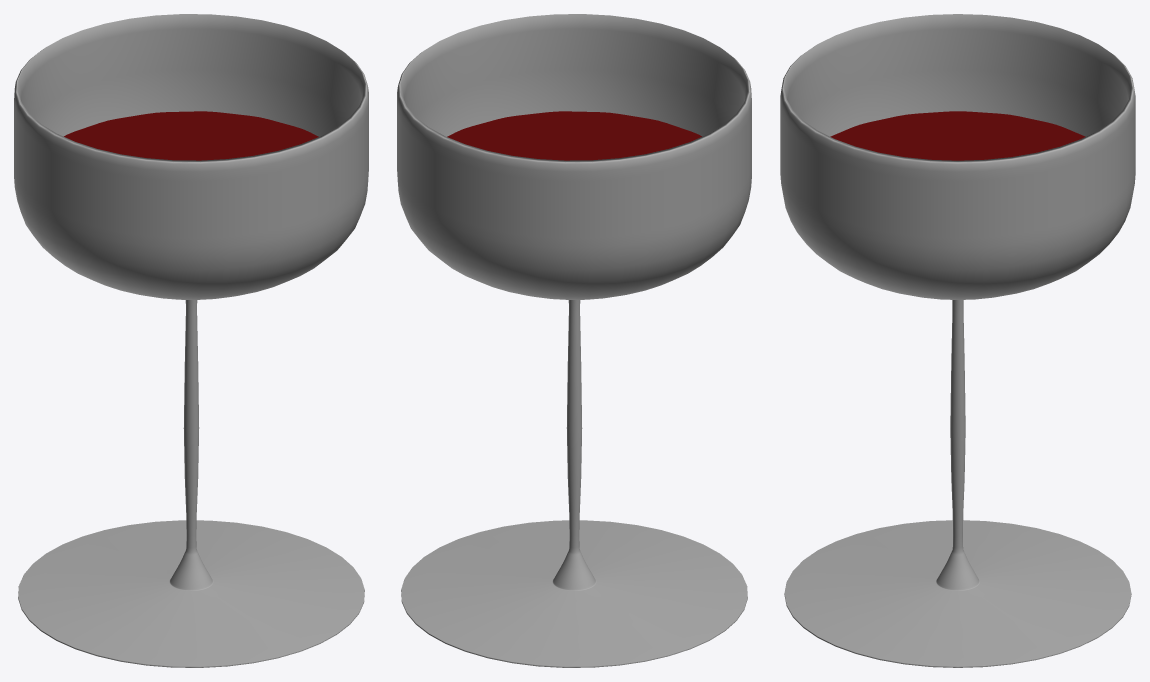
Rendered from Goblet.fbx.
The picture shows the model from 3 angles, left to right: view 1: azimuth 30°, elevation 25°; view 2: azimuth 150°, elevation 25°; view 3: azimuth 270°, elevation 25°; orthographic projection.
Visible parts, largest first — view 1: pCylinder7; view 2: pCylinder7; view 3: pCylinder7.
Boxes of the visible parts, <box> form: pCylinder7: <box>14,14,368,667</box>; pCylinder7: <box>397,14,751,667</box>; pCylinder7: <box>780,14,1135,667</box>.
Size of the model in its own units: 35.4 by 55.75 by 35.4.
